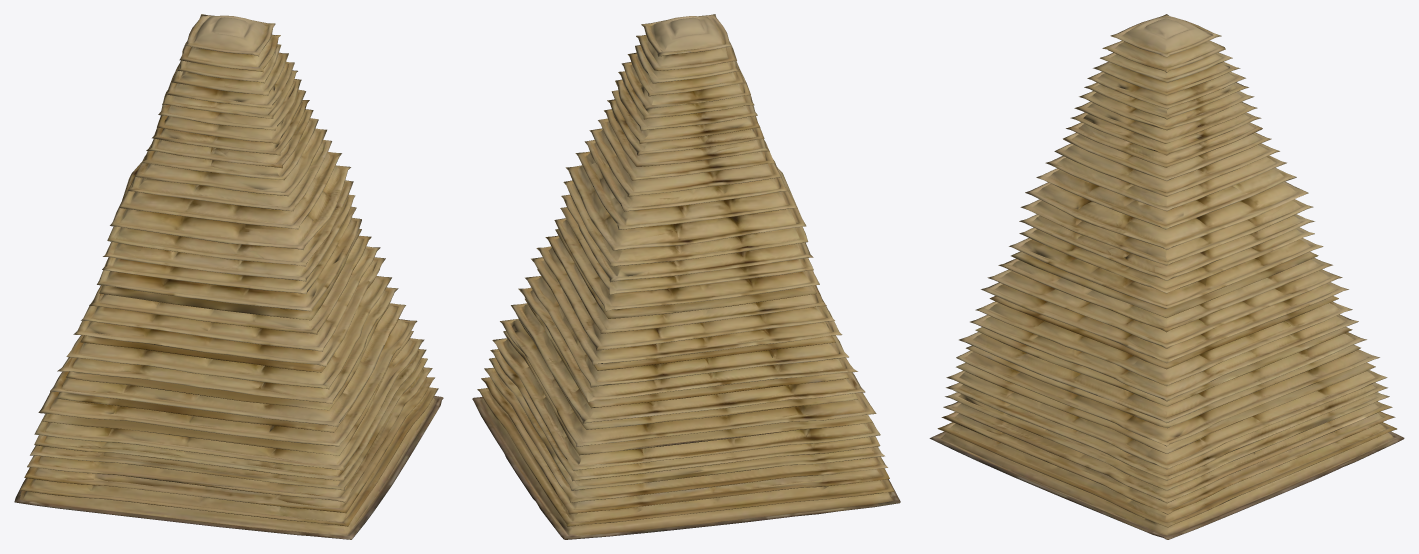
File: rice-stack.glb
The picture shows the model from 3 angles, left to right: view 1: azimuth 30°, elevation 25°; view 2: azimuth 150°, elevation 25°; view 3: azimuth 270°, elevation 25°; orthographic projection. The views are drawn at different scales.
Visible parts, largest first — view 1: node_0; view 2: node_0; view 3: node_0.
Boxes of the visible parts, x1,y1,x2,y2 form: node_0: [14, 14, 443, 539]; node_0: [472, 14, 900, 539]; node_0: [929, 14, 1404, 539].
Size of the model in its own units: 0.8739 by 0.8517 by 0.866.
1 material, 1 textured.
